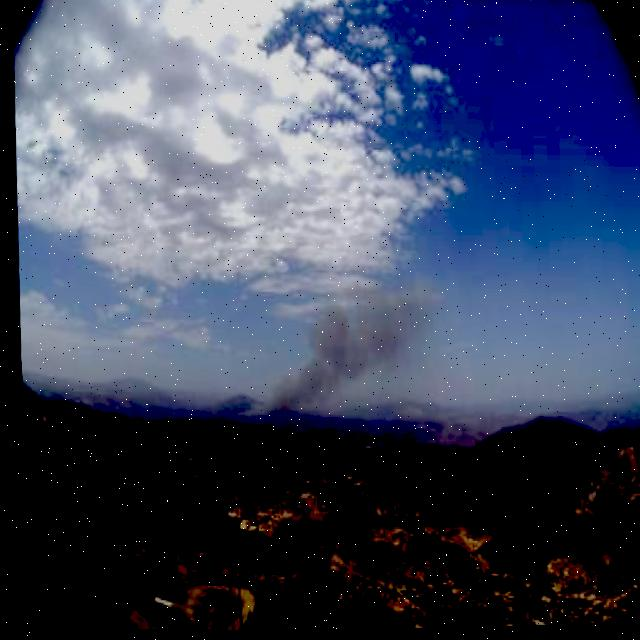Smoke: (227, 270, 448, 448)
